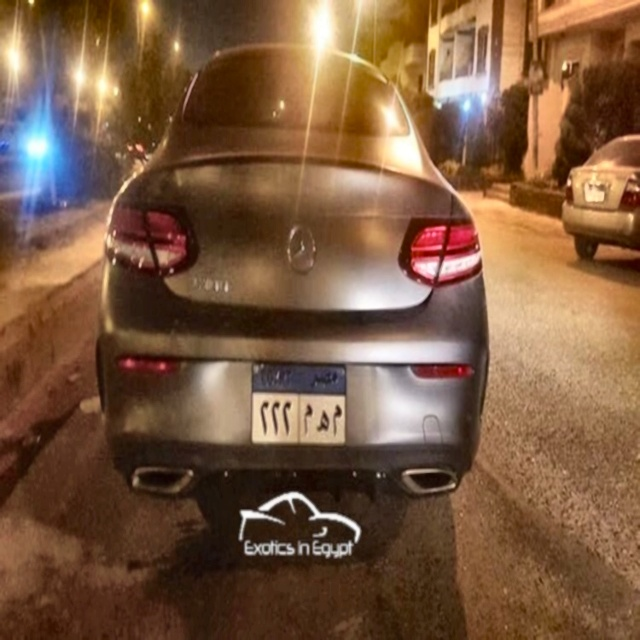License Plate: (249, 357, 349, 450)
